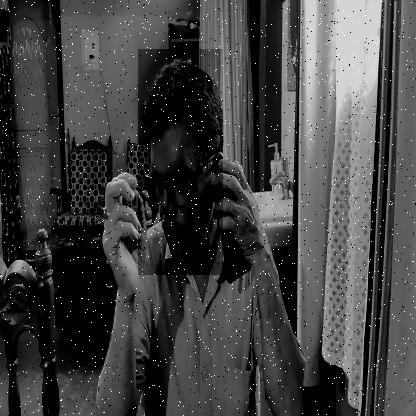Distracted: (138, 49, 223, 275)
